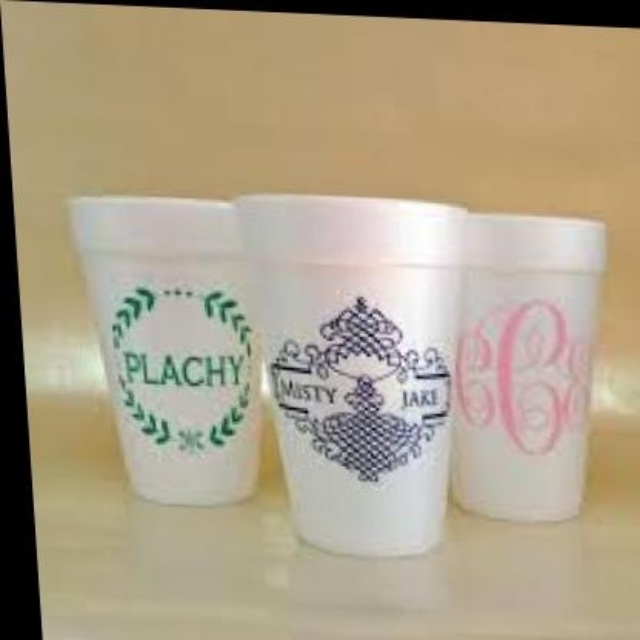trash: (240, 195, 465, 555), (71, 197, 260, 505), (452, 214, 605, 520)
